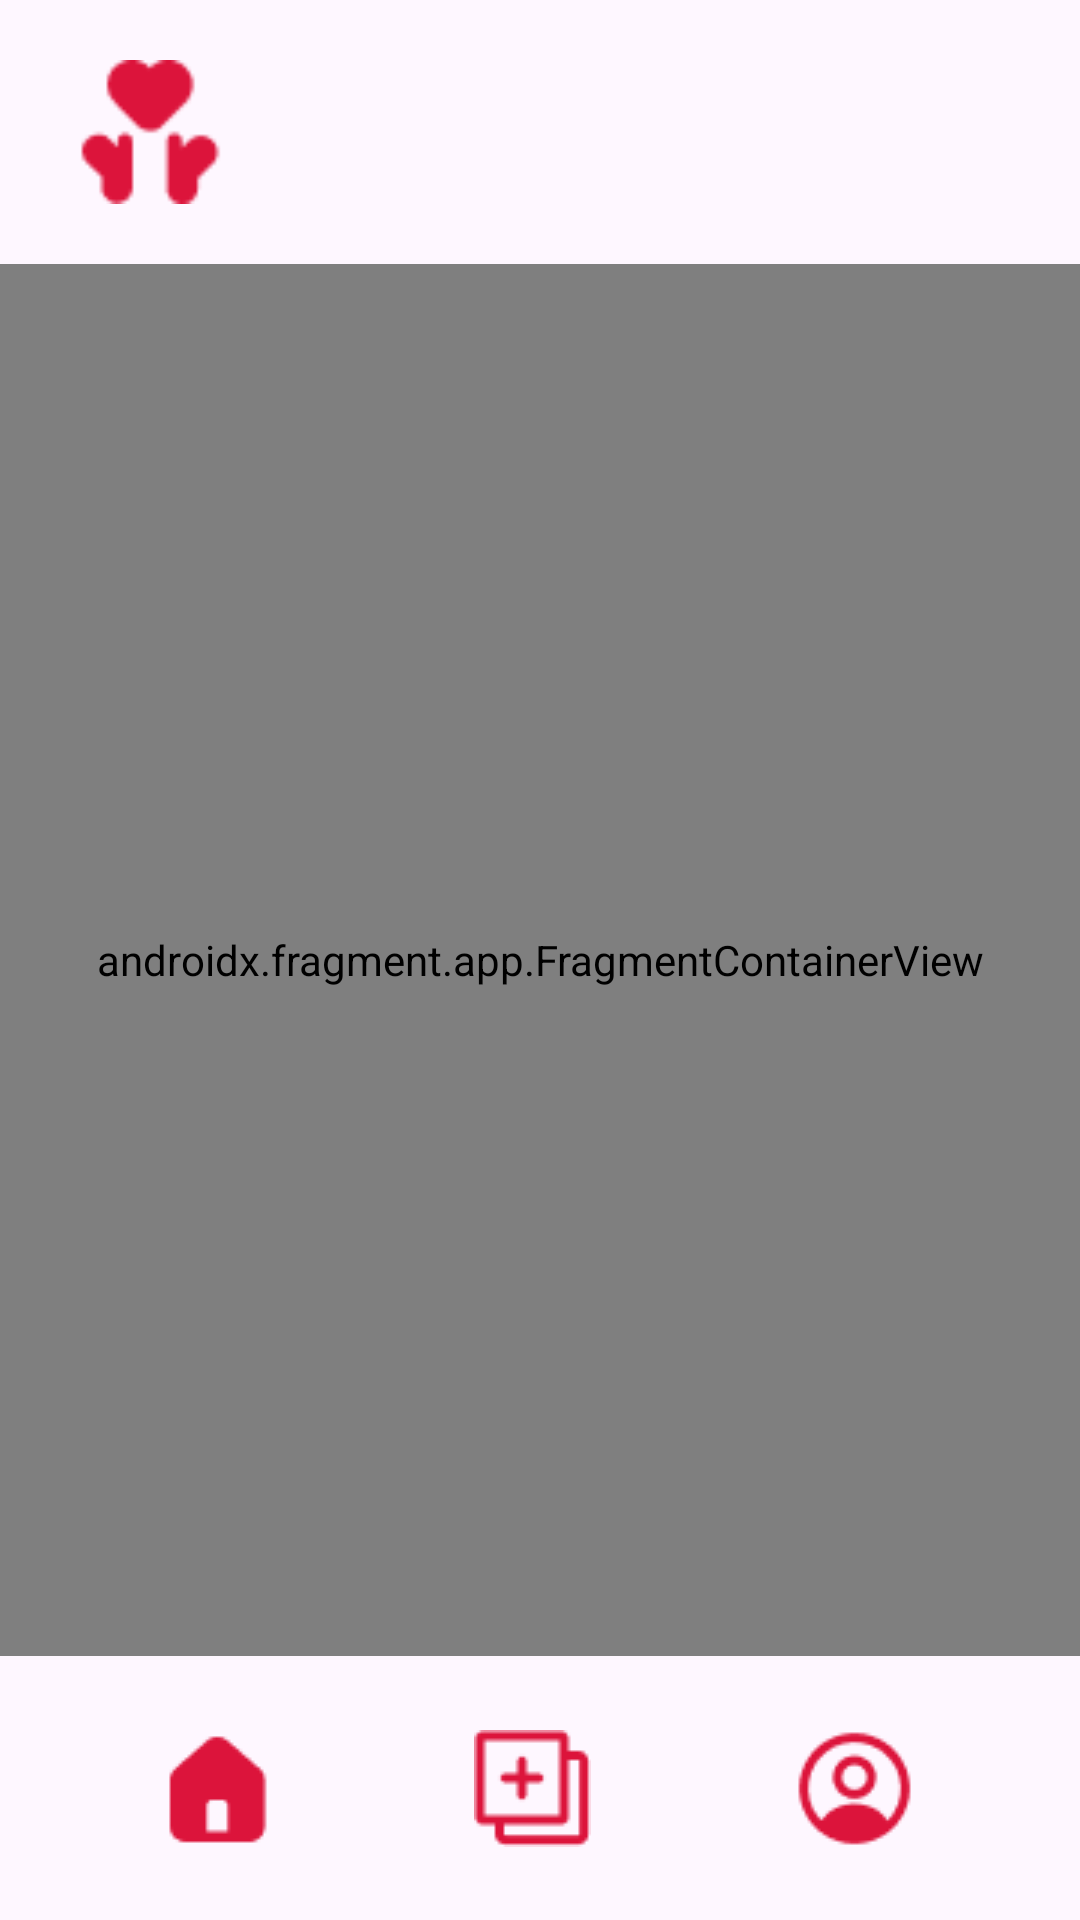

Locate icon controls on the screen. Image size 1080x1920, boxes as {"x1": x1, "y1": y1, "x2": x2, "y2": y2}.
add publication: {"x1": 474, "y1": 1730, "x2": 591, "y2": 1847}
home: {"x1": 169, "y1": 1736, "x2": 267, "y2": 1843}
user circle: {"x1": 798, "y1": 1732, "x2": 911, "y2": 1845}
